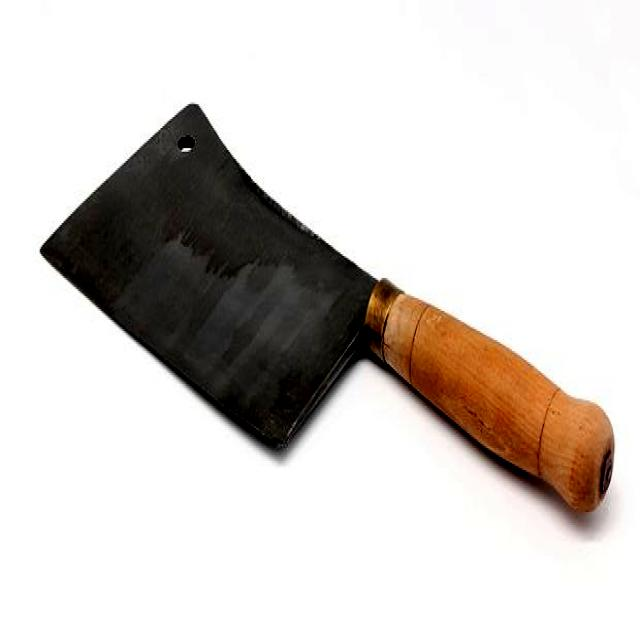cleaver: (39, 103, 613, 510)
